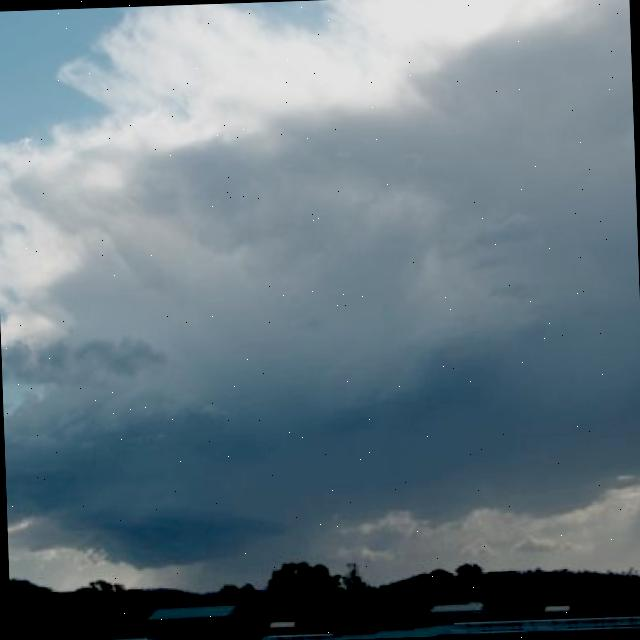Cb: (1, 16, 640, 483)
